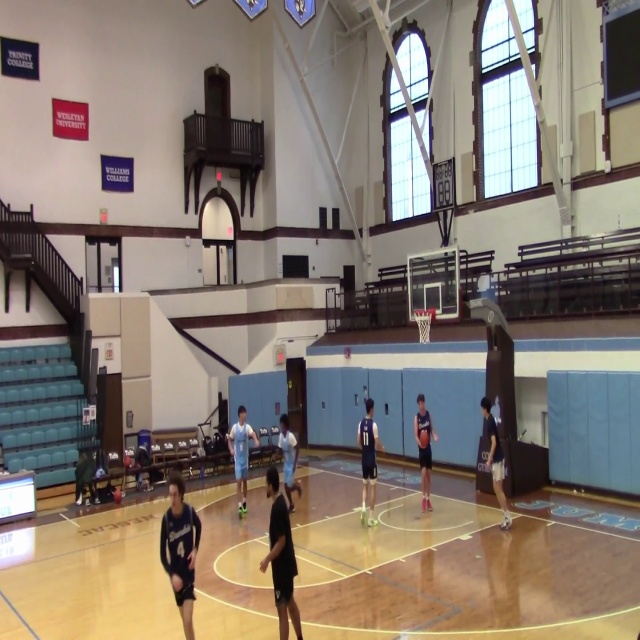Basketball: (171, 574, 183, 592), (419, 431, 429, 449)
